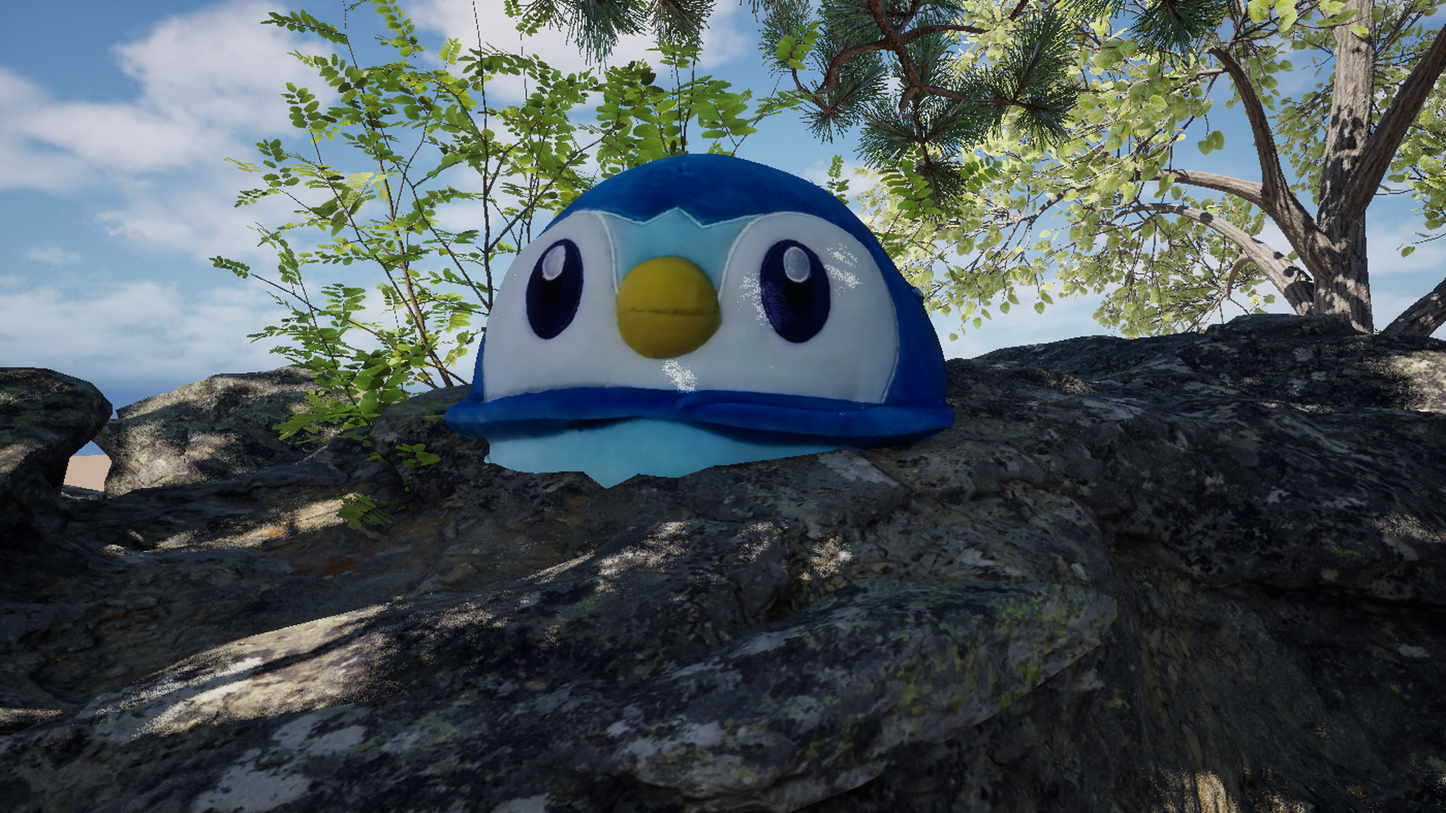Piplup: (344, 0, 1246, 813)
